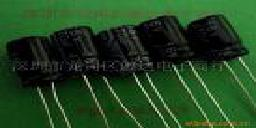Electrolytic-Capacitor: (56, 25, 134, 128), (189, 10, 253, 68)
